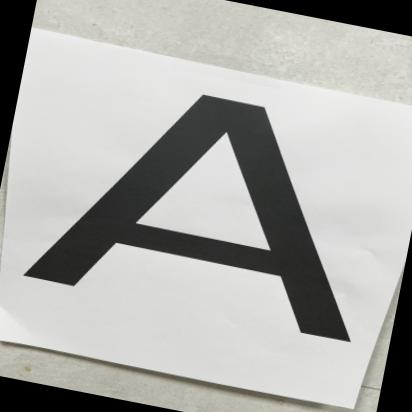seat: (0, 39, 412, 378)
